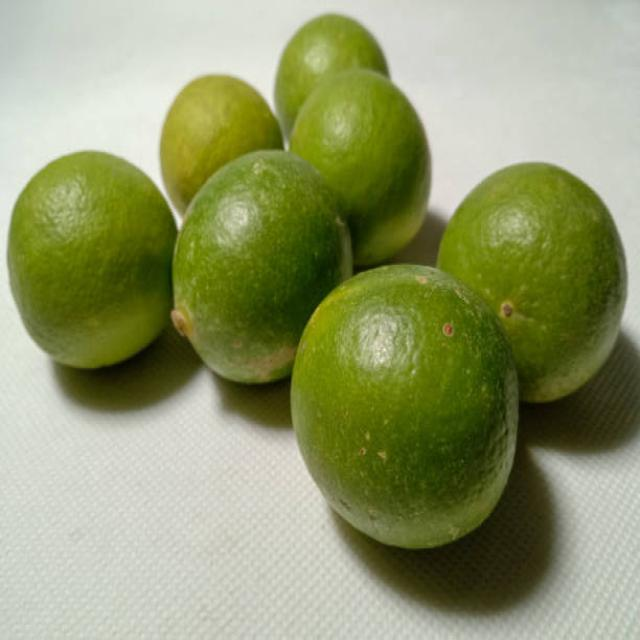Unripe: (291, 264, 521, 550), (172, 146, 354, 386), (6, 147, 179, 371)
